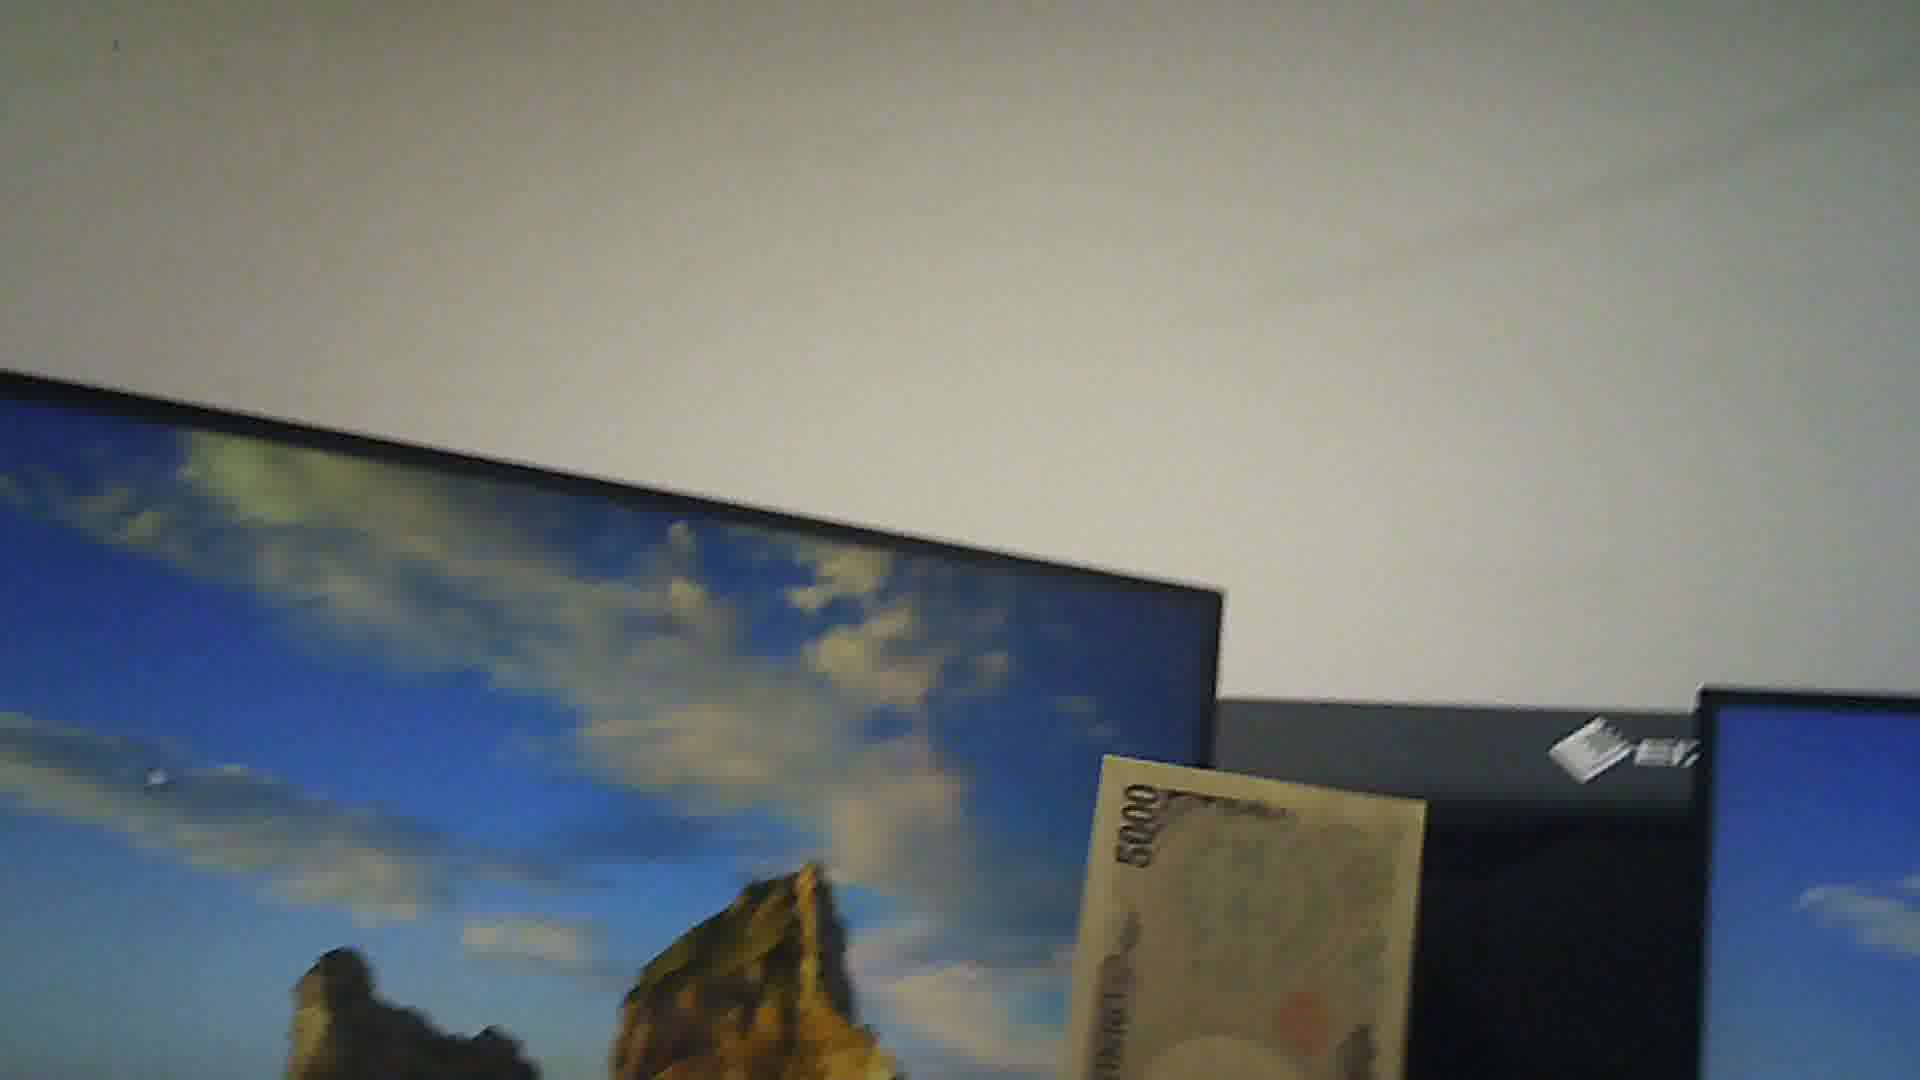5,000 Yen: (1043, 737, 1423, 1060)
